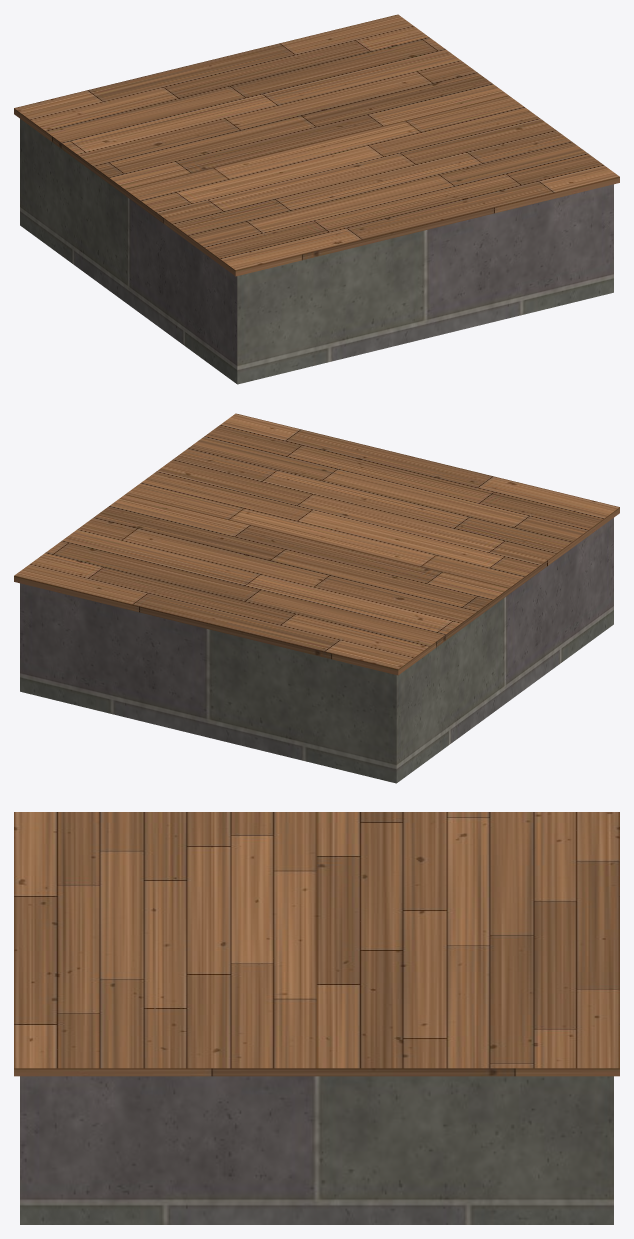
Rendered from floor_floor_g.glb.
3 views of the same model, one above another, from view 1: azimuth 30°, elevation 25°; view 2: azimuth 150°, elevation 25°; view 3: azimuth 270°, elevation 25° (orthographic). The views are drawn at different scales.
Parts seen in each view (by area): view 1: floor_floor_g_floor, floor_floor_g_plinth; view 2: floor_floor_g_floor, floor_floor_g_plinth; view 3: floor_floor_g_floor, floor_floor_g_plinth.
Boxes of the visible parts, <box> form: floor_floor_g_floor: <box>14,14,619,276</box>; floor_floor_g_plinth: <box>20,119,613,384</box>; floor_floor_g_floor: <box>14,413,619,675</box>; floor_floor_g_plinth: <box>20,518,613,783</box>; floor_floor_g_floor: <box>14,812,619,1076</box>; floor_floor_g_plinth: <box>20,1076,613,1224</box>.
Bounding box in the file's own units: 2 × 0.58 × 2.
2 materials, 2 textured.
